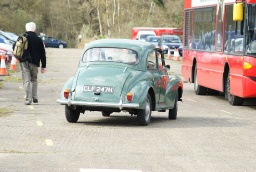bus: (182, 1, 256, 106)
car: (64, 37, 184, 126)
person: (12, 21, 47, 108)
